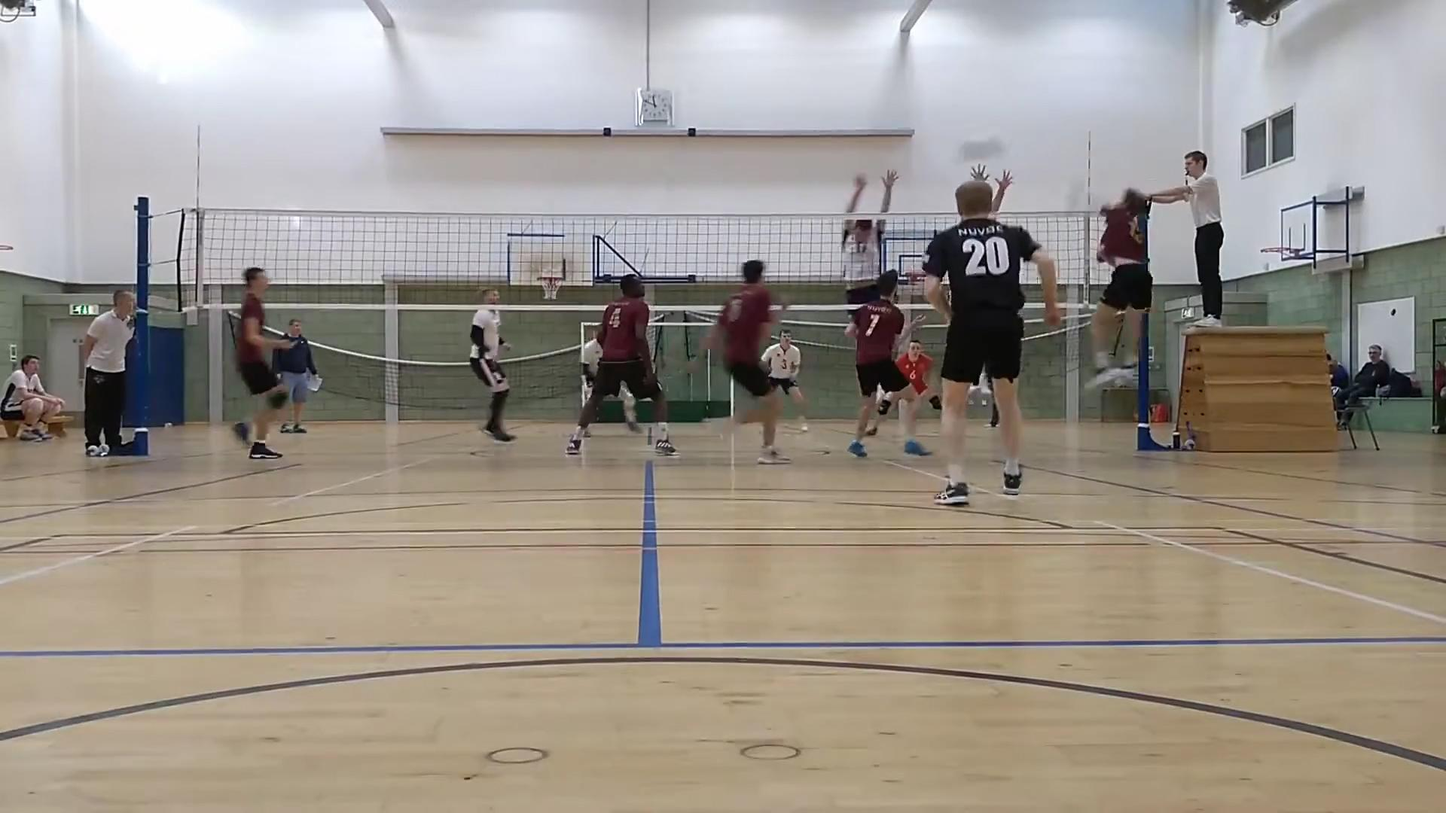Block: (832, 162, 902, 310), (973, 159, 1020, 220)
Player: (566, 274, 676, 455), (703, 260, 790, 464), (1076, 182, 1159, 391), (845, 273, 928, 457), (233, 266, 292, 458), (469, 289, 514, 443), (761, 330, 806, 431), (896, 339, 941, 410), (581, 324, 602, 403)
